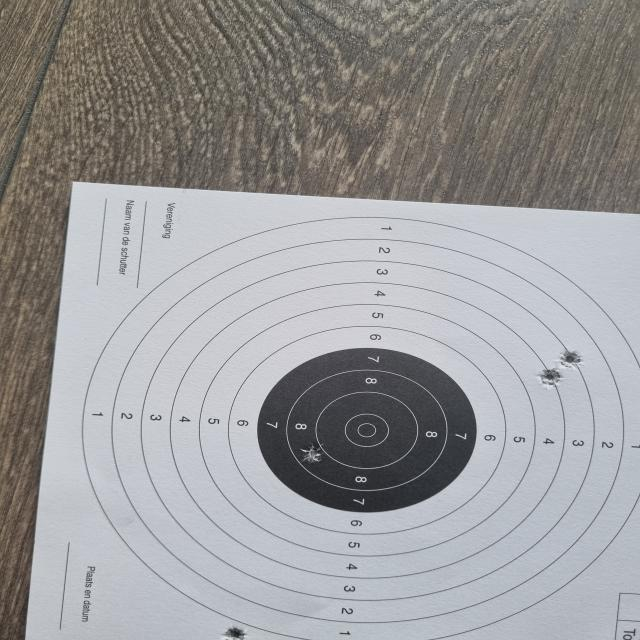10: (298, 444, 326, 463)
4: (557, 351, 588, 370)
5: (536, 368, 566, 386)
Black Contour: (256, 346, 478, 510)
Target: (77, 214, 640, 640)
hole: (222, 627, 247, 640)
